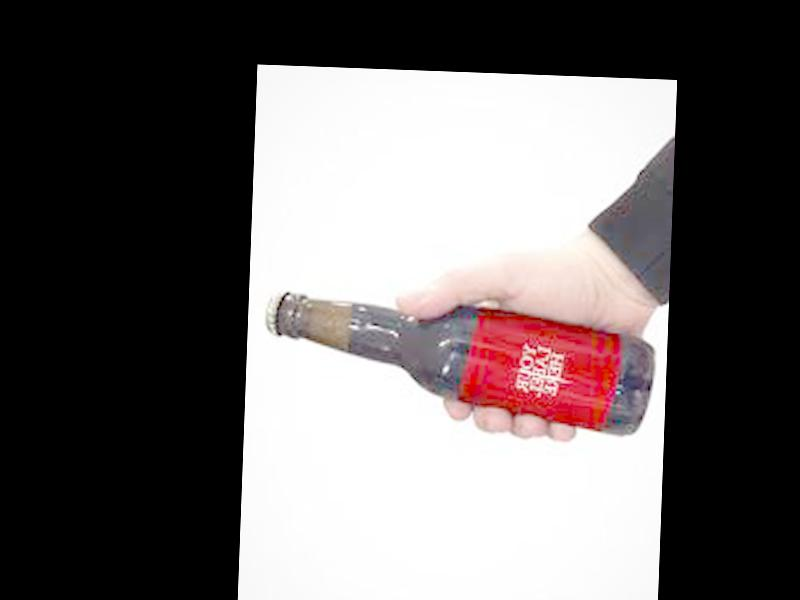Beer: (259, 287, 656, 438)
